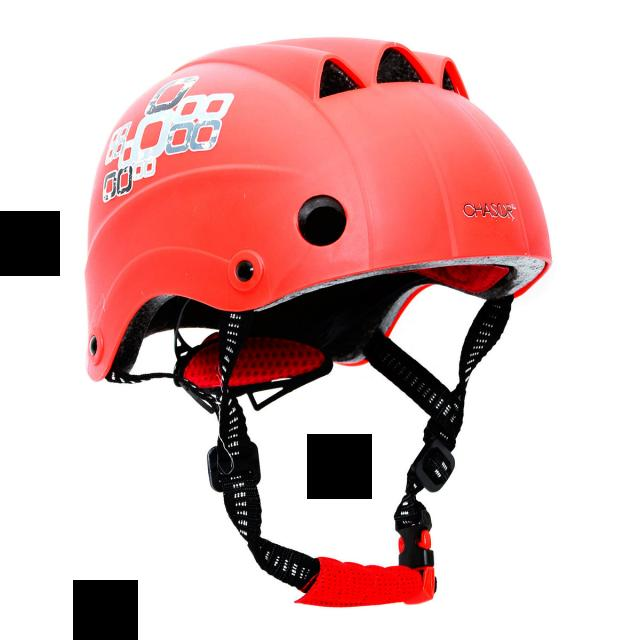Helmet: (85, 38, 551, 606)
